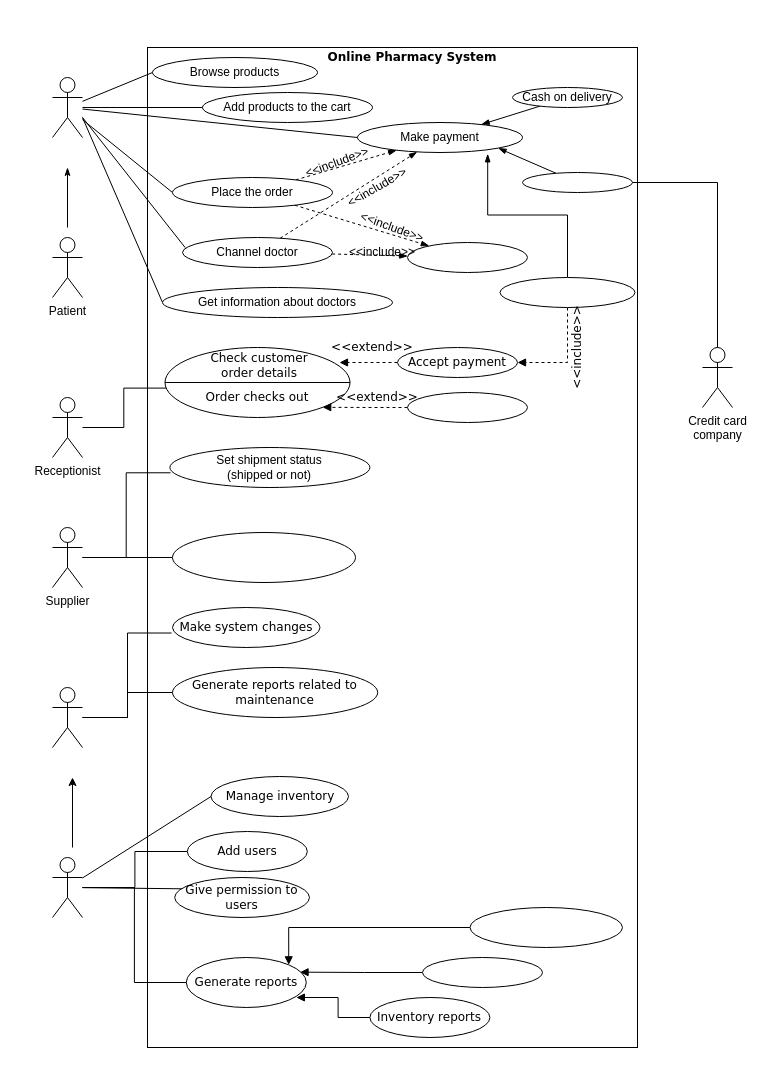
This 764x1065 diagram has some shape labels left out. Each missing label, with the centre of its shape:
Annual reports: (482,972)
Maintenance Team: (67,717)
Pay at receptionist: (567,292)
Product Buyer: (67,107)
Respond to re-supply requests: (264,557)
Sales and Revenue Report: (545,927)
System Admin: (67,887)
Update system: (467,407)
Validate user: (467,257)
via credit card: (577,182)
